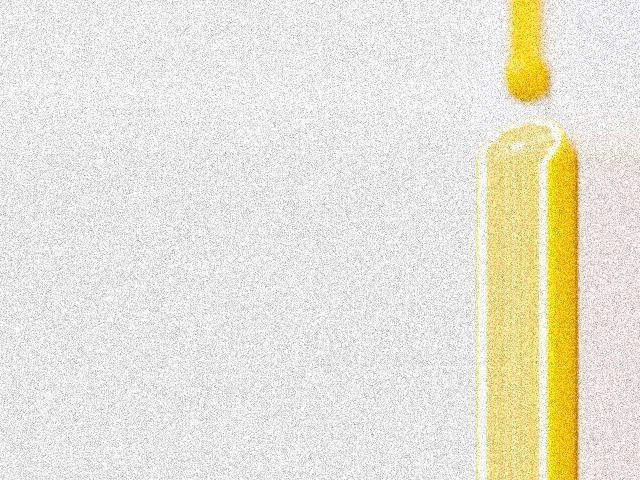lemon: (506, 55, 545, 101)
